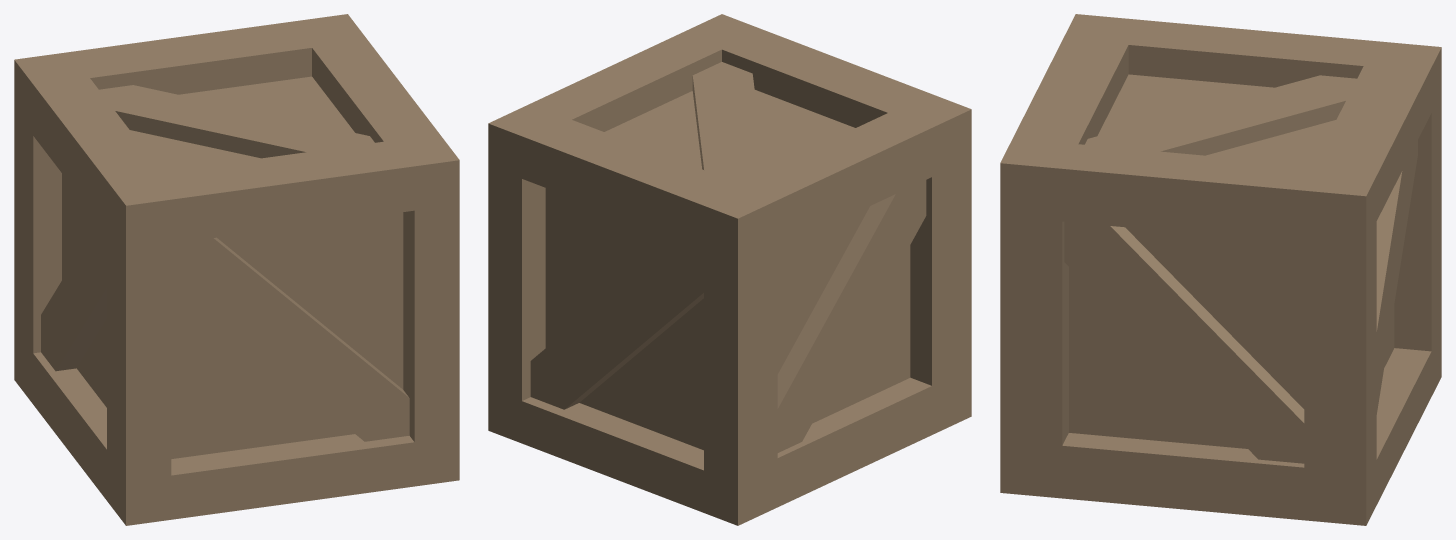
3 views of the same model, side by side, from view 1: azimuth 30°, elevation 25°; view 2: azimuth 150°, elevation 25°; view 3: azimuth 270°, elevation 25° (orthographic). The views are drawn at different scales.
Visible parts, largest first — view 1: Cube.030; view 2: Cube.030; view 3: Cube.030.
Boxes of the visible parts, box(x1,y1,x2,y2) form: Cube.030: box(14, 14, 459, 525); Cube.030: box(488, 14, 971, 525); Cube.030: box(1000, 14, 1441, 525).
Bounding box in the file's own units: 64.11 × 54.05 × 65.62.
